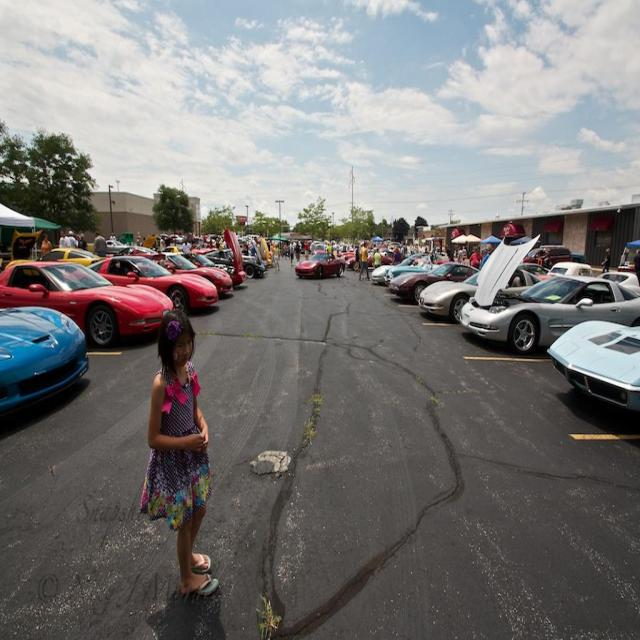car: (293, 251, 345, 277)
